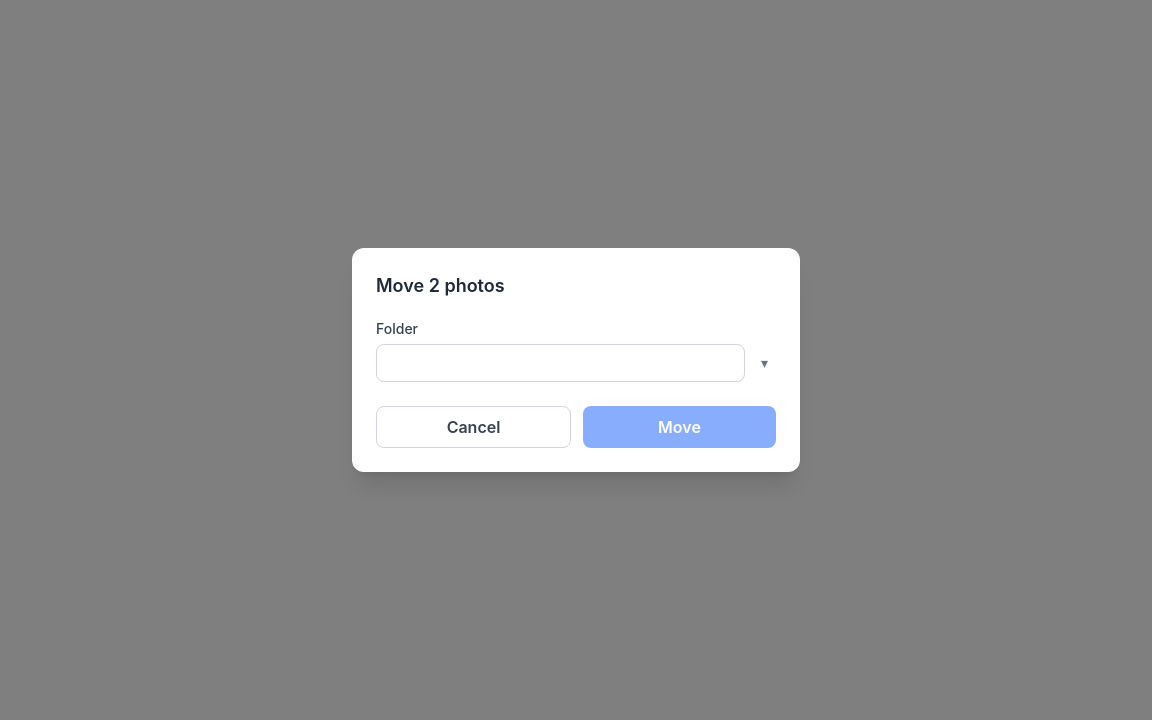
Test case: MoveImagesModal › refuses the folder the photos are already in
Inside Holidays, so its own row is one level up.
Click the button with test id "album-picker-toggle". click: (764, 363)
box: 753,344 -> 776,382
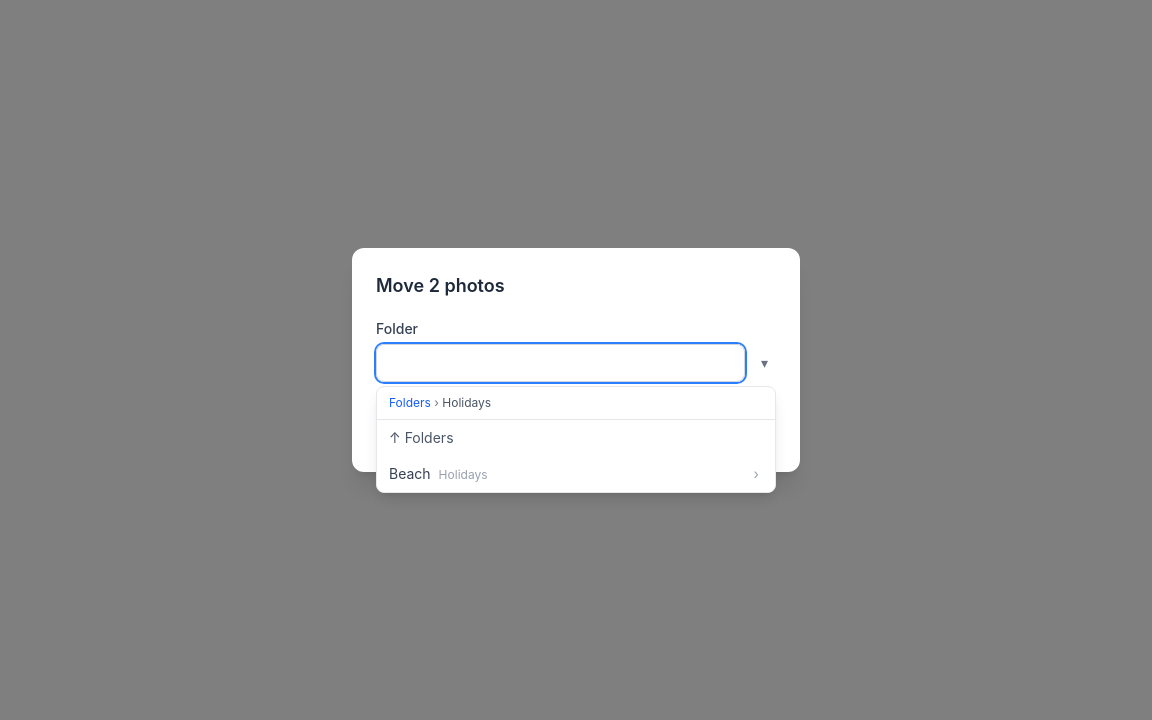
Click the button with test id "album-picker-crumb-root". click: (410, 403)
box: 389,395 -> 431,411
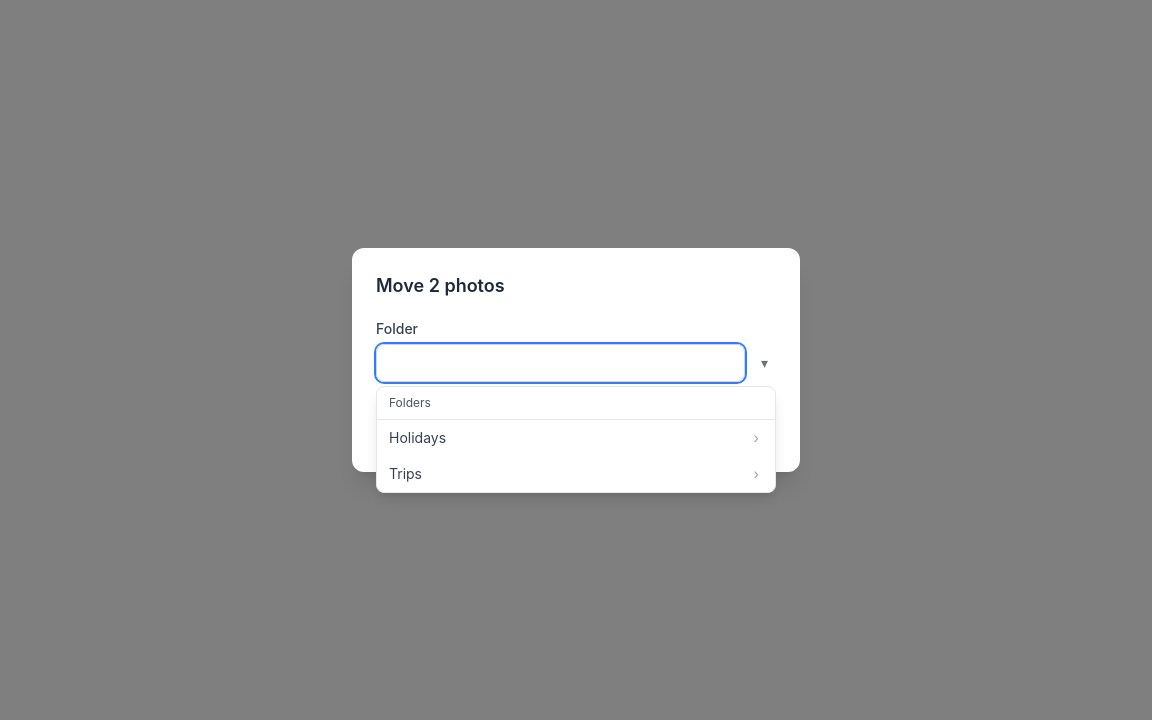
Click the text "Holidays". click: (418, 438)
box: 389,428 -> 446,448
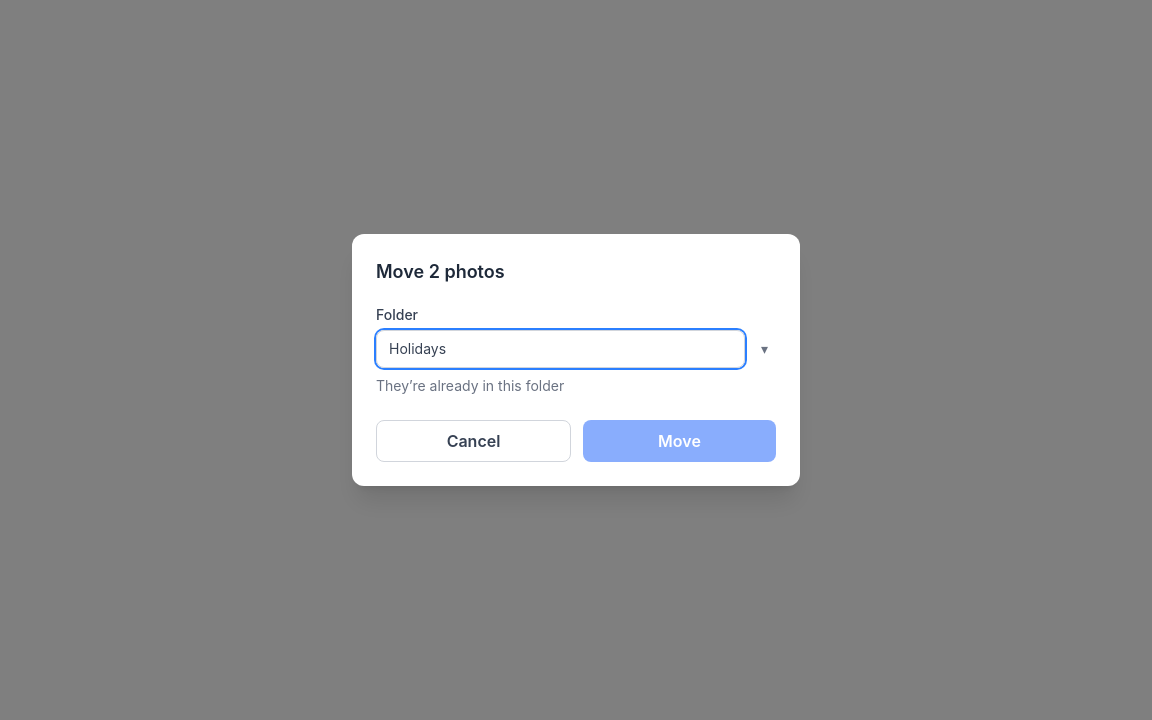
Check: the button with test id "move-confirm-button" is disabled, box 583,420 -> 776,462
Check: the text "They’re already in this folder" is shown, box 376,377 -> 564,394
